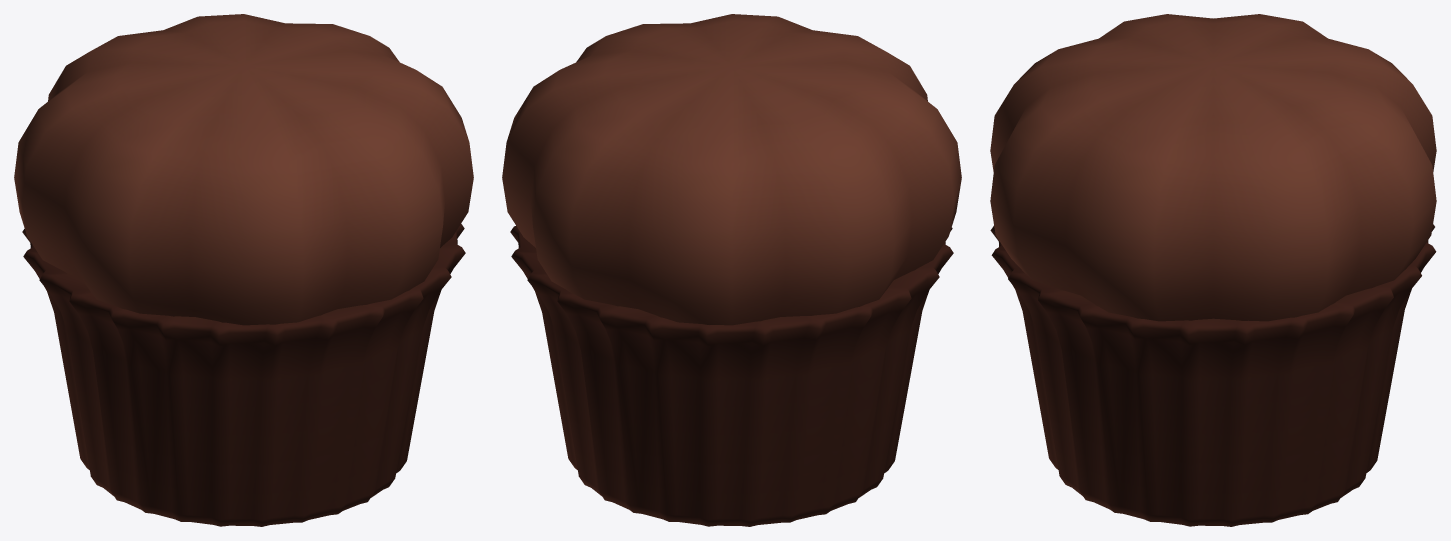
Rendered from Cupcake_03.glb.
3 renders of one model, left to right at view 1: azimuth 30°, elevation 25°; view 2: azimuth 150°, elevation 25°; view 3: azimuth 270°, elevation 25°, orthographic.
Parts seen in each view (by area): view 1: Cupcake_03; view 2: Cupcake_03; view 3: Cupcake_03.
Part boxes in pixels (bbox=[...]): Cupcake_03: bbox=[14, 14, 473, 526]; Cupcake_03: bbox=[502, 14, 961, 526]; Cupcake_03: bbox=[990, 14, 1436, 526].
Bounding box in the file's own units: 4.59 × 4.55 × 4.59.
1 material, 1 textured.
